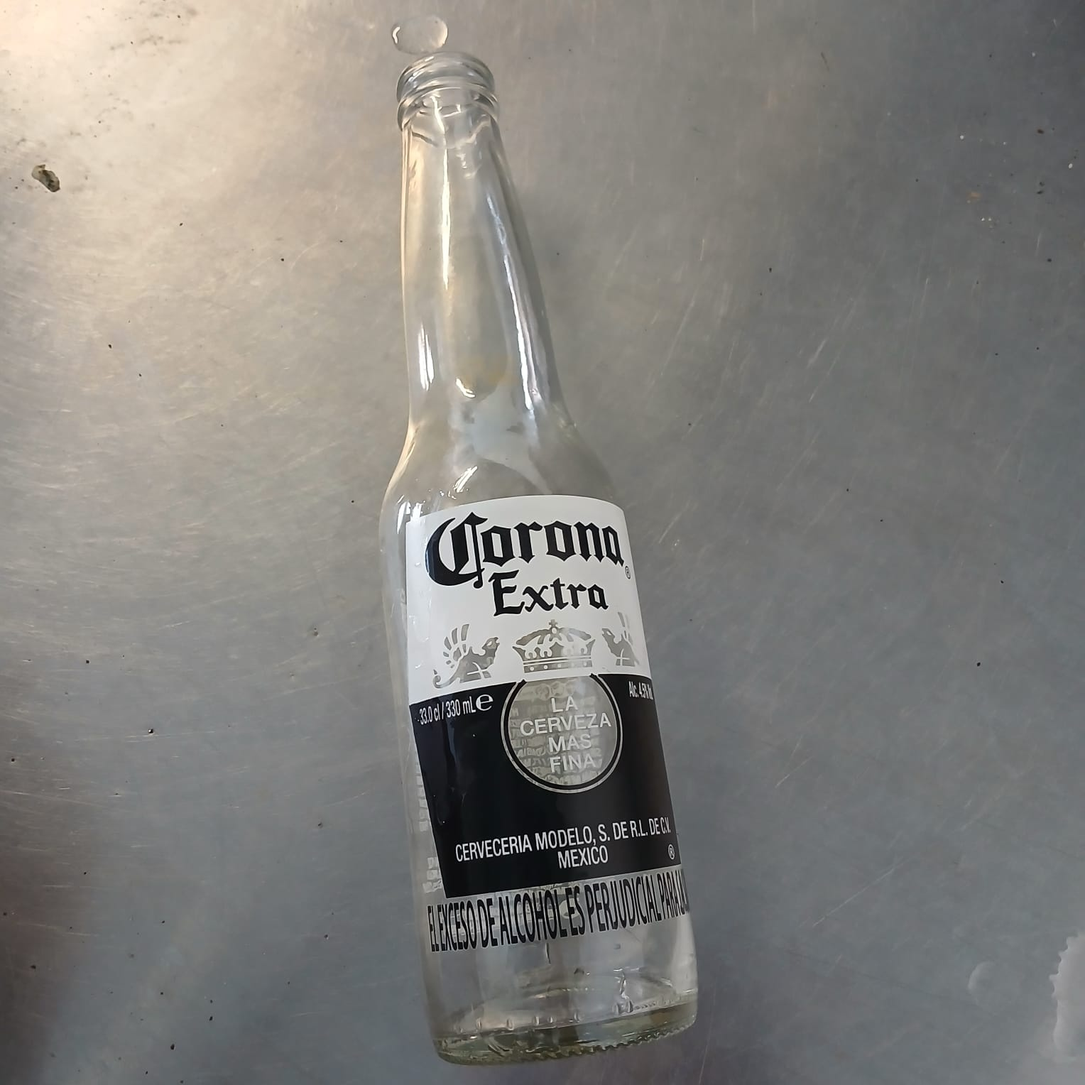Vidrio: (375, 54, 698, 1065)
